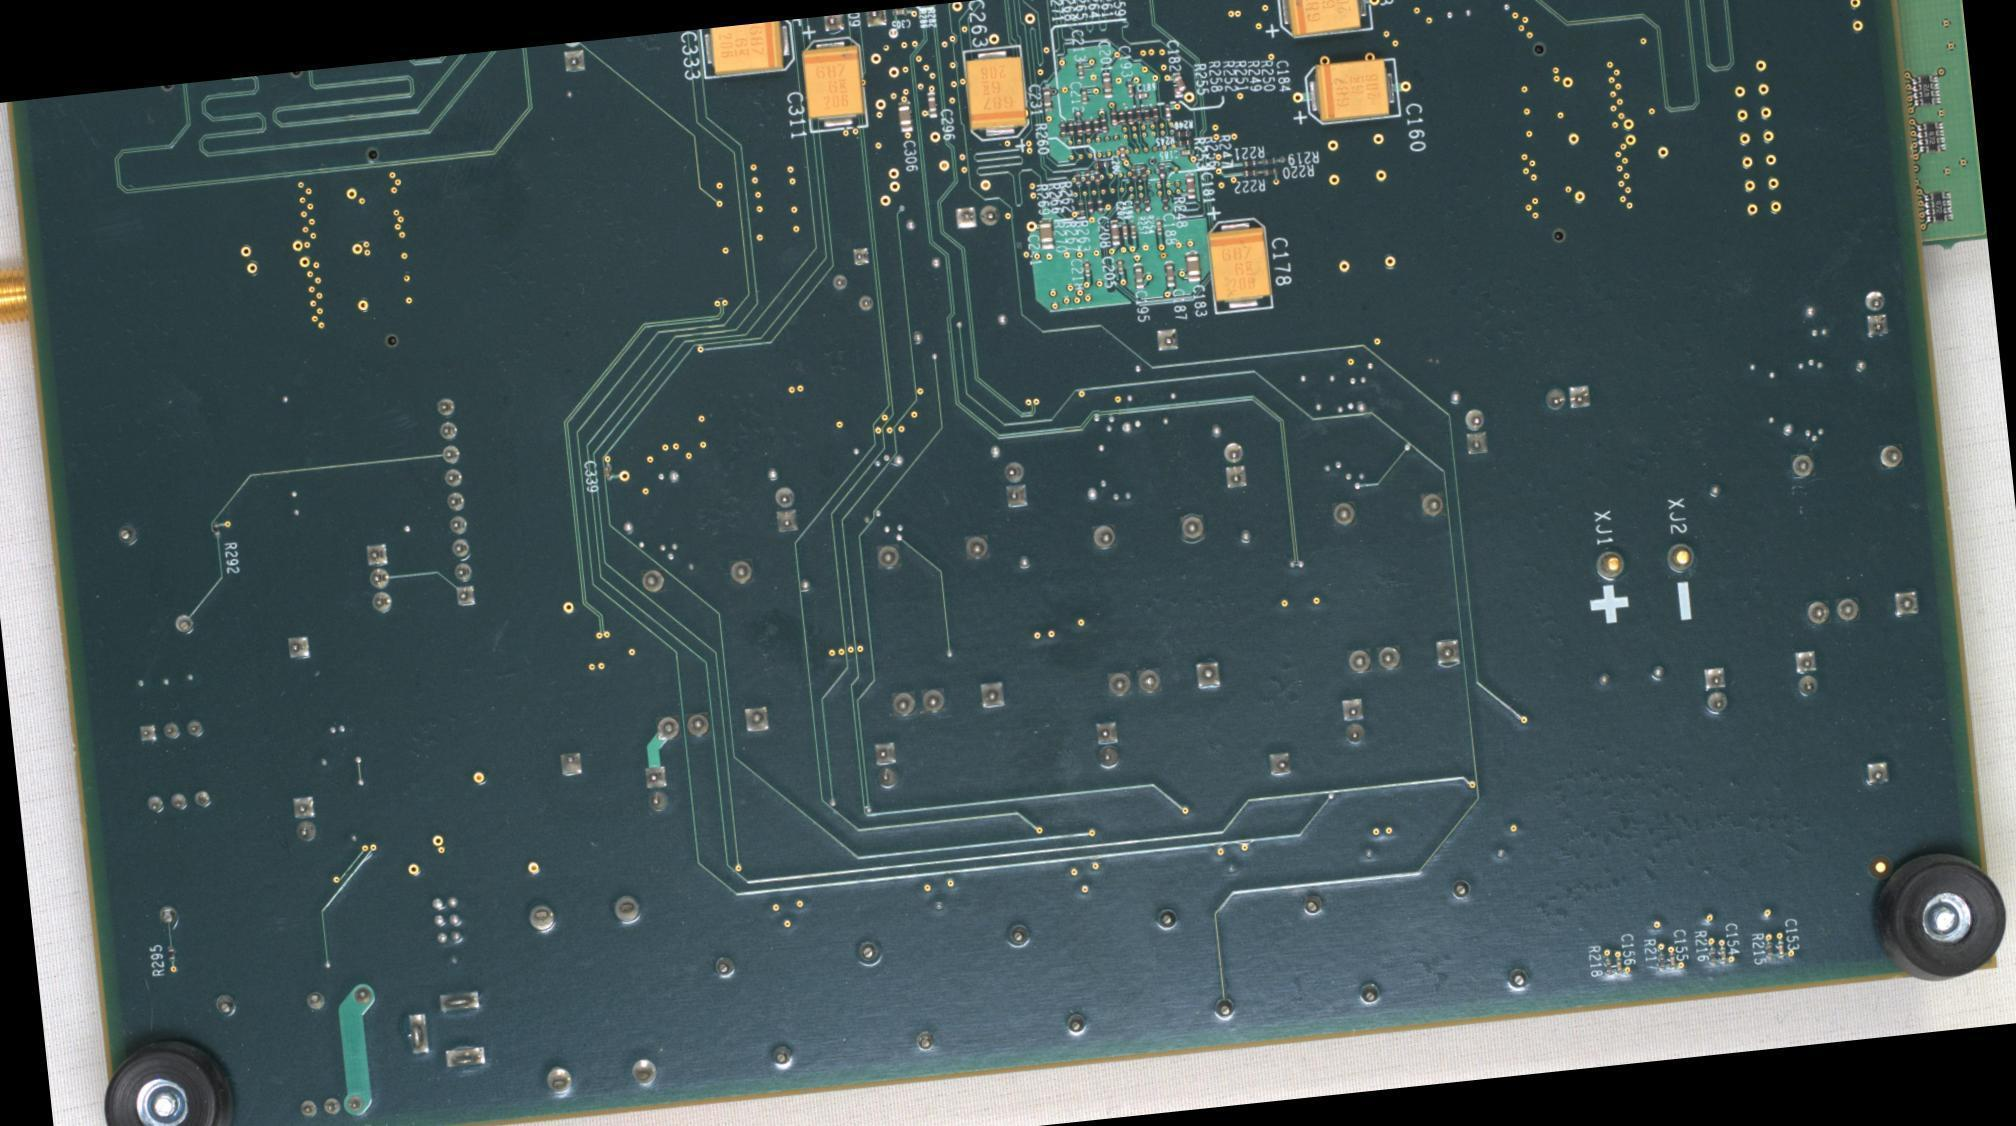Capacitor: (1184, 251, 1201, 282), (1038, 217, 1054, 249), (897, 101, 913, 132), (1172, 71, 1186, 96), (1184, 172, 1196, 199), (1108, 219, 1120, 246), (1040, 85, 1052, 111), (1101, 71, 1112, 98), (1164, 260, 1176, 288), (926, 91, 938, 118), (1132, 262, 1144, 288), (602, 464, 613, 482), (1775, 941, 1785, 958), (1155, 215, 1163, 234), (1163, 103, 1171, 120), (1076, 62, 1084, 79), (1615, 957, 1623, 974), (1718, 946, 1726, 963), (1125, 80, 1133, 97), (1118, 144, 1126, 160), (1129, 221, 1137, 238), (1083, 259, 1091, 275), (1116, 256, 1124, 273), (1178, 148, 1193, 156), (1668, 953, 1676, 969), (1134, 91, 1150, 99), (1121, 222, 1128, 238), (1080, 87, 1087, 102)
Connector: (0, 249, 40, 333)
Electrolytic Capacitor: (1302, 56, 1401, 126), (799, 35, 867, 133), (961, 44, 1029, 143), (1206, 216, 1273, 315), (700, 21, 796, 79), (1273, 0, 1374, 40)
Pins: (518, 890, 667, 1103), (632, 553, 777, 752), (1782, 439, 1927, 636), (1085, 507, 1228, 706), (1325, 485, 1467, 682), (868, 529, 1011, 725), (430, 390, 482, 611), (396, 984, 494, 1080), (209, 974, 376, 1025), (134, 716, 213, 818), (826, 243, 882, 319), (361, 540, 398, 619), (289, 1090, 370, 1123), (637, 761, 677, 818), (1539, 376, 1593, 417), (1856, 287, 1894, 342), (1788, 644, 1823, 703), (1459, 404, 1494, 464), (1337, 693, 1371, 754), (998, 456, 1031, 515), (1090, 718, 1123, 774), (1698, 661, 1731, 717), (285, 790, 320, 844), (820, 10, 890, 35), (869, 736, 900, 791), (949, 201, 1004, 231), (770, 483, 800, 538), (1220, 438, 1250, 492), (1261, 747, 1294, 784), (1859, 755, 1894, 789), (554, 746, 586, 781), (281, 632, 313, 662), (1153, 325, 1181, 352), (154, 902, 180, 928), (169, 609, 196, 634)
Resistor: (1911, 72, 1941, 107), (1923, 190, 1953, 225), (1916, 119, 1945, 153), (1764, 941, 1773, 960), (1242, 168, 1258, 177), (1604, 958, 1612, 976), (1658, 954, 1666, 972), (1134, 107, 1142, 124), (211, 520, 219, 537), (1708, 948, 1716, 968), (166, 945, 175, 961), (1142, 105, 1150, 122), (1109, 109, 1118, 126), (1126, 108, 1134, 124), (1058, 120, 1066, 137), (1129, 164, 1137, 180), (1158, 162, 1166, 179), (1095, 198, 1103, 214), (1142, 195, 1150, 212), (1151, 105, 1159, 121), (1066, 119, 1074, 135), (1100, 116, 1108, 132), (1074, 120, 1083, 136), (1175, 130, 1191, 138), (1261, 155, 1277, 164), (1076, 199, 1084, 215), (1160, 195, 1169, 211), (1139, 164, 1147, 181), (1117, 108, 1125, 125), (1092, 160, 1109, 168), (1074, 171, 1081, 187), (1083, 118, 1090, 133), (1091, 118, 1098, 133), (1176, 139, 1191, 146), (1084, 170, 1091, 185), (1242, 159, 1257, 166), (1262, 167, 1277, 174), (1086, 198, 1093, 213), (1133, 198, 1140, 213), (1093, 170, 1099, 184)
